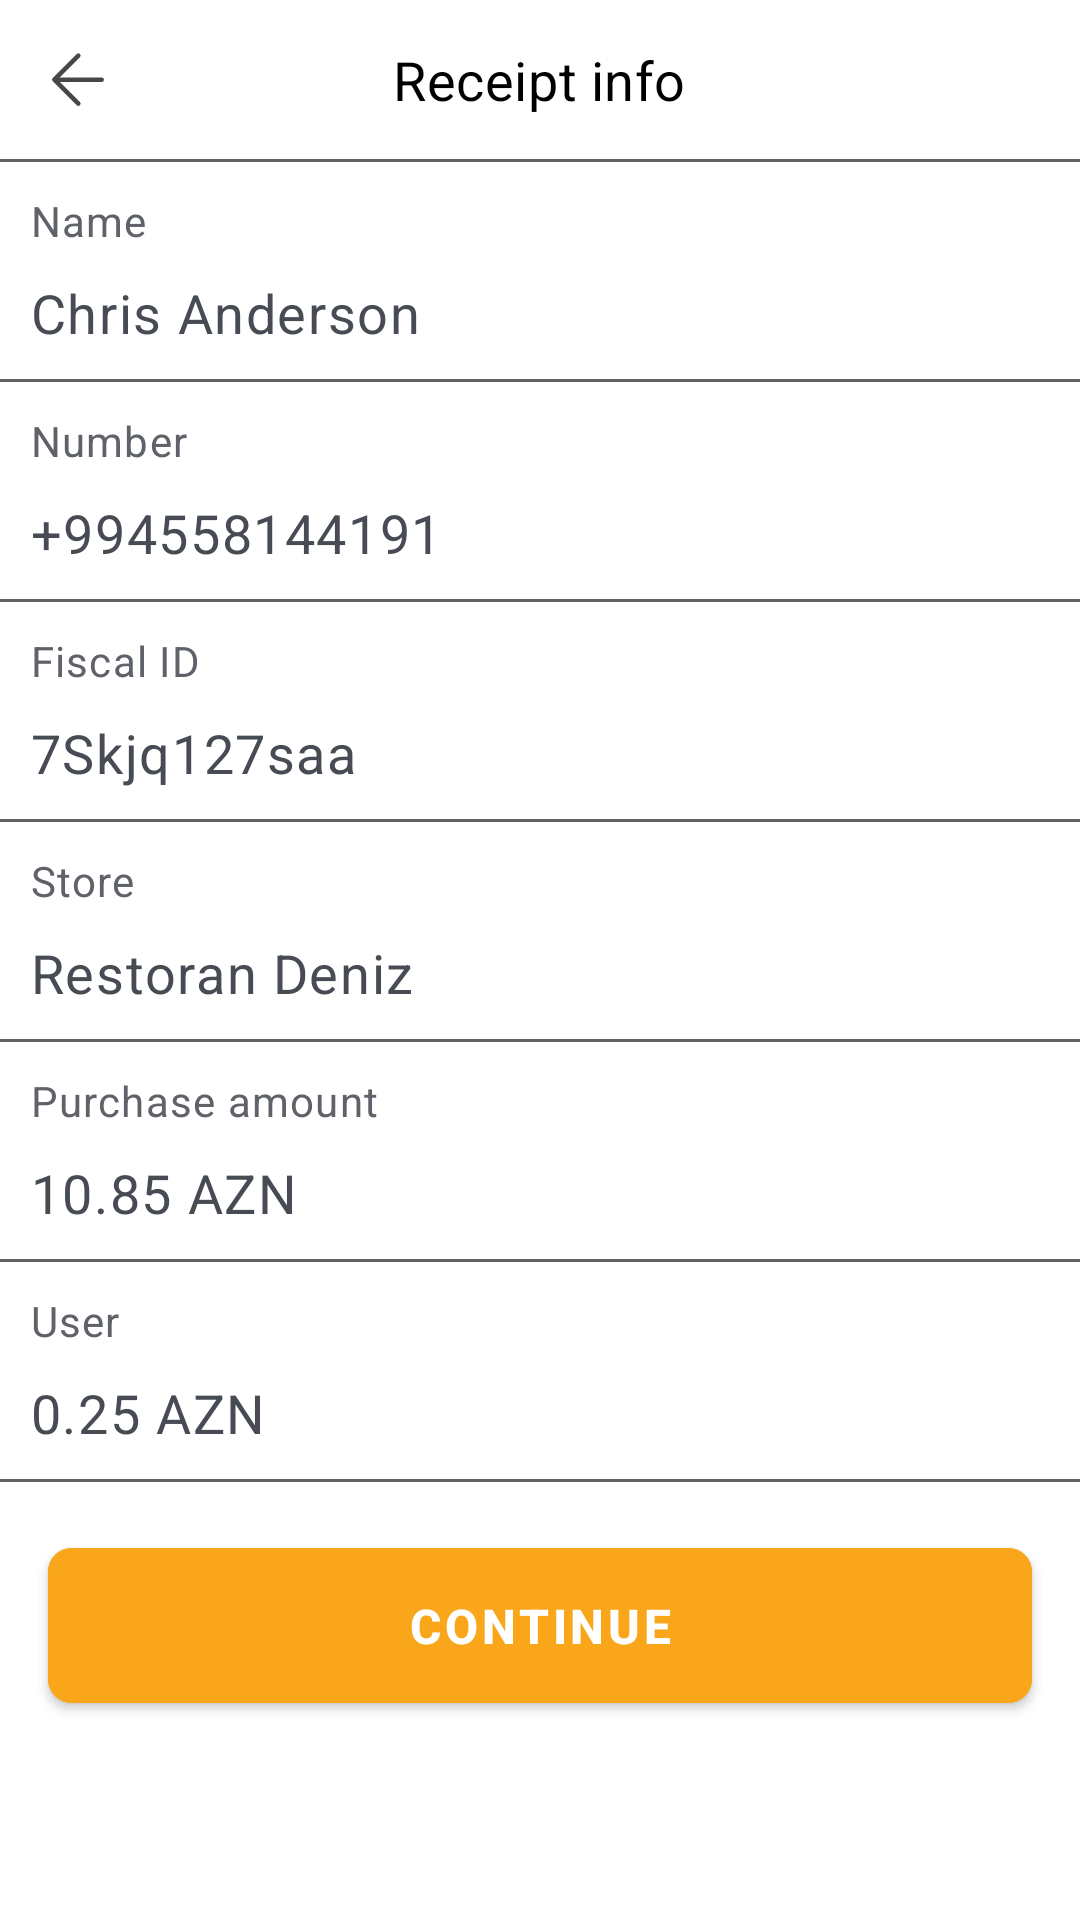

Screen size 1080px x 1920px. Icon name, then its center in pixels as (x=x, y=y):
arrow back: (x=78, y=79)
